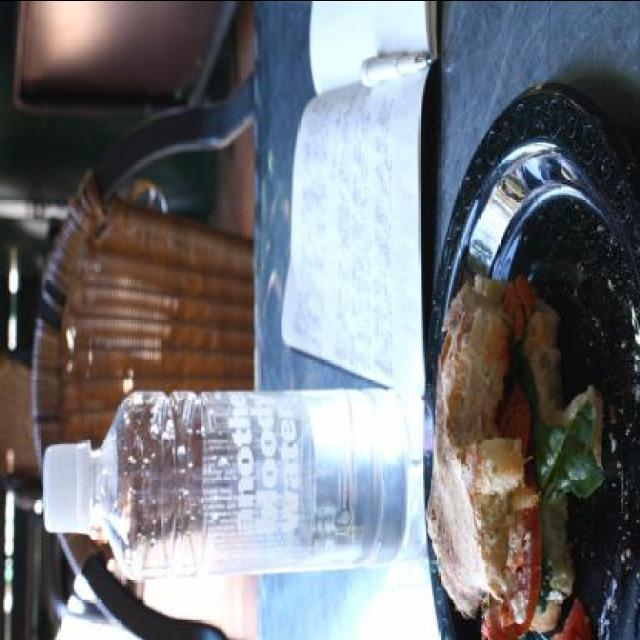Sandwich: (419, 262, 603, 640)
